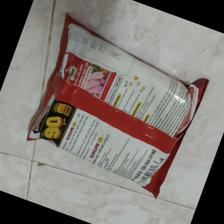Kokomi: (22, 13, 210, 201)
